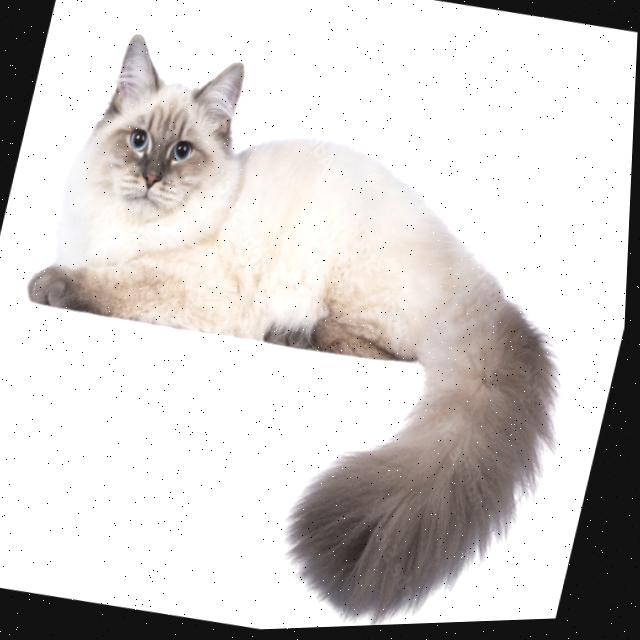Neva Masquerade: (0, 6, 639, 640)
